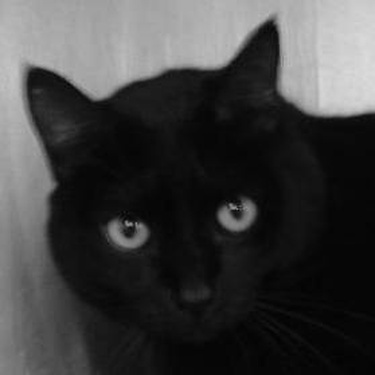cat: (18, 8, 369, 368)
